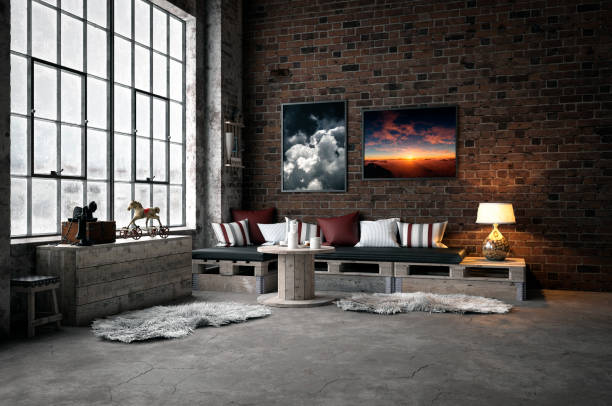sofa: (193, 207, 472, 299)
table: (258, 238, 336, 310)
table lamp: (474, 200, 516, 262)
wall art: (359, 103, 460, 180), (278, 97, 351, 195)
